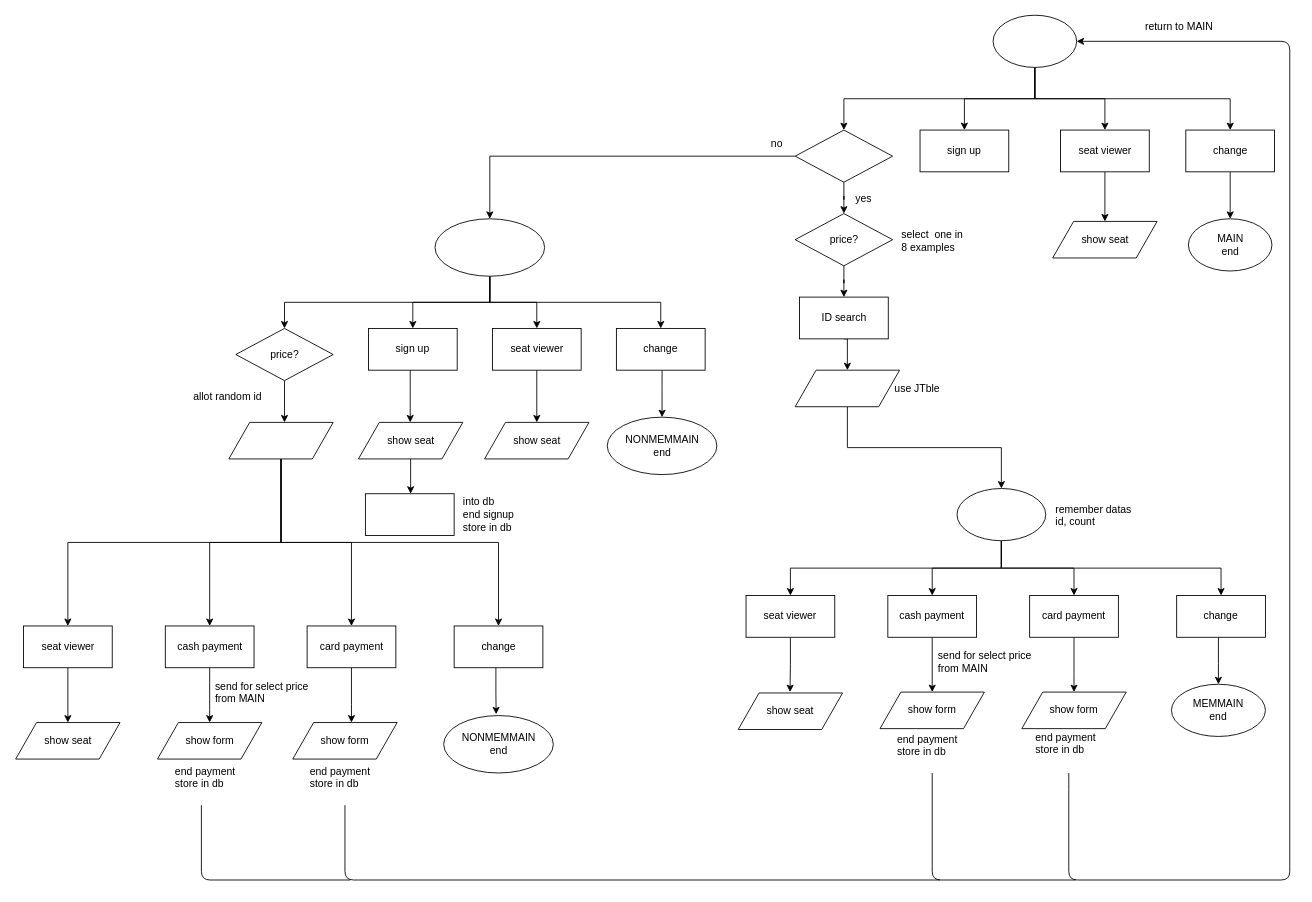
Some shapes in this 1312 by 902 pixel diagram are drawn without their labels. The centre of each missing label's shape, as x and y in pixels:
MAIN start: point (1034, 40)
member?: point (843, 155)
MEMMAIN start: point (1001, 514)
NONMEMMAIN start: point (489, 247)
register info: point (409, 514)
show id from db: point (847, 388)
show random id: point (280, 440)
